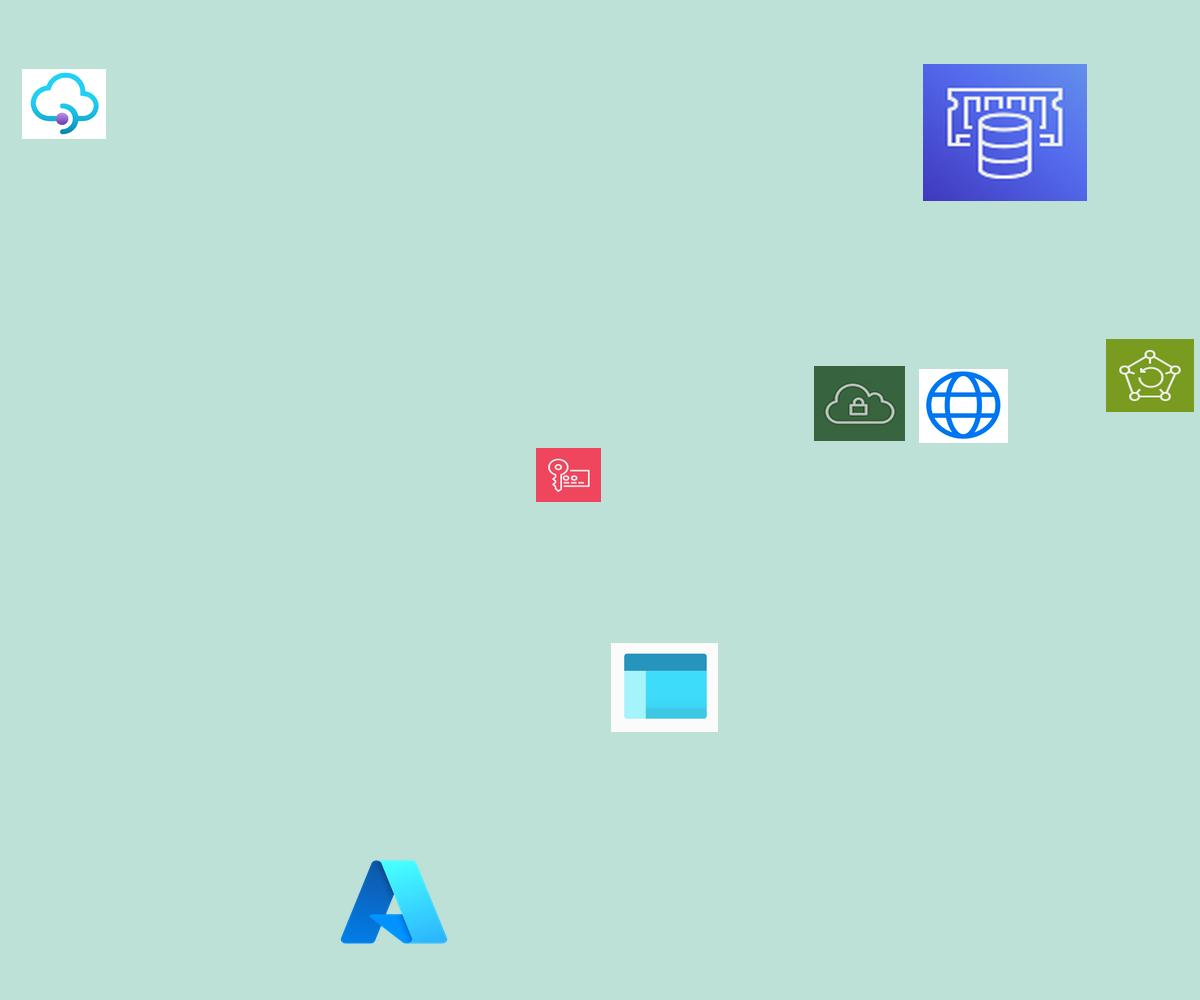AWS-Backup: (1106, 339, 1194, 412)
AWS-ElastiCache: (923, 64, 1087, 201)
AWS-Key-Management-Service: (536, 448, 601, 502)
AWS-Private_vpc: (814, 366, 905, 441)
Azure_api_gateway: (22, 69, 106, 139)
Azure_http: (919, 369, 1008, 443)
Azure_management-portal: (611, 643, 718, 732)
Azure_services: (336, 854, 452, 950)
